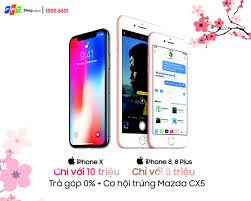iphone: (65, 26, 109, 148)
iphone10: (66, 27, 110, 149)
